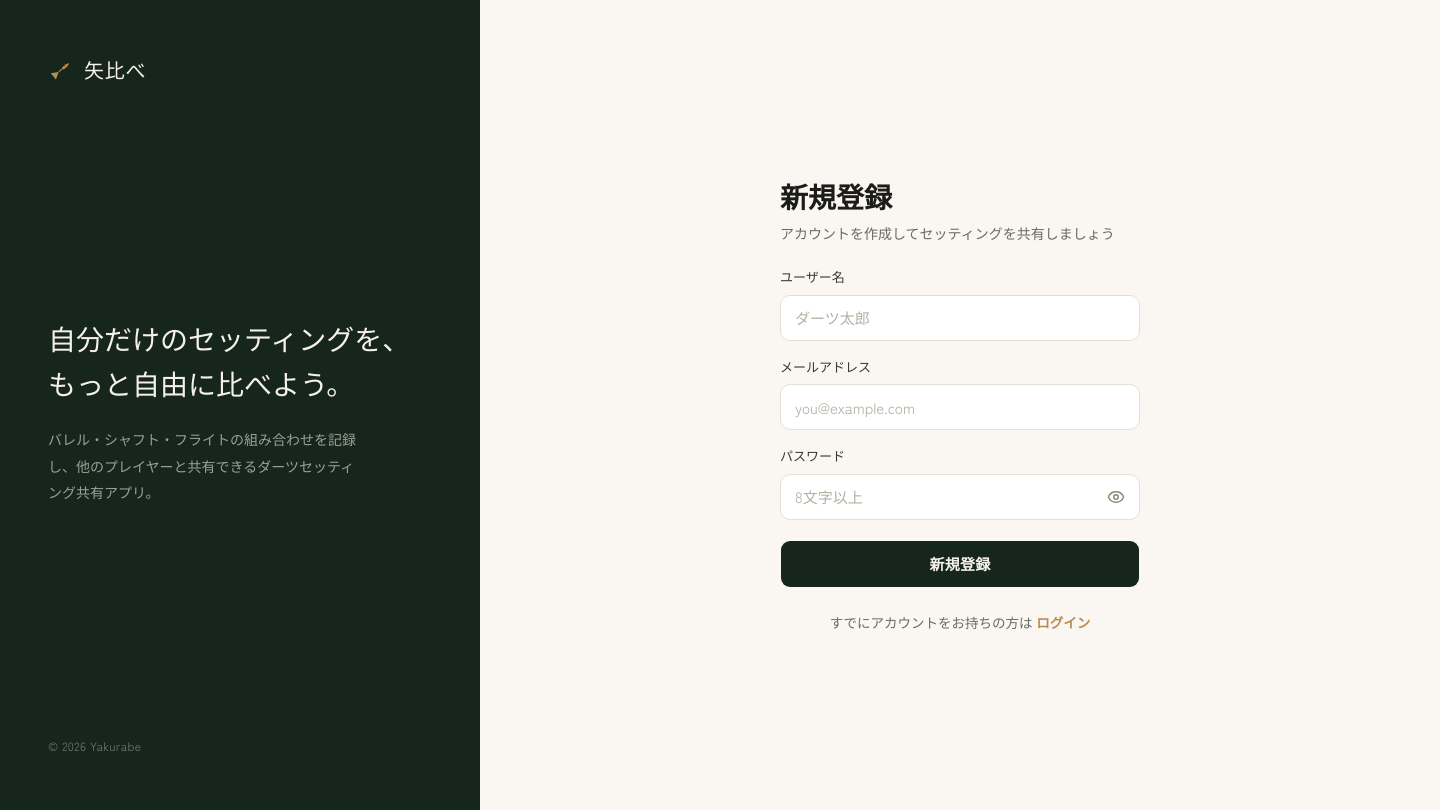
RegisterPage › 空欄で送信するとバリデーションエラーが表示され、fetchは呼ばれない
Click the button "新規登録" at (960, 564), box [780,540,1140,588]
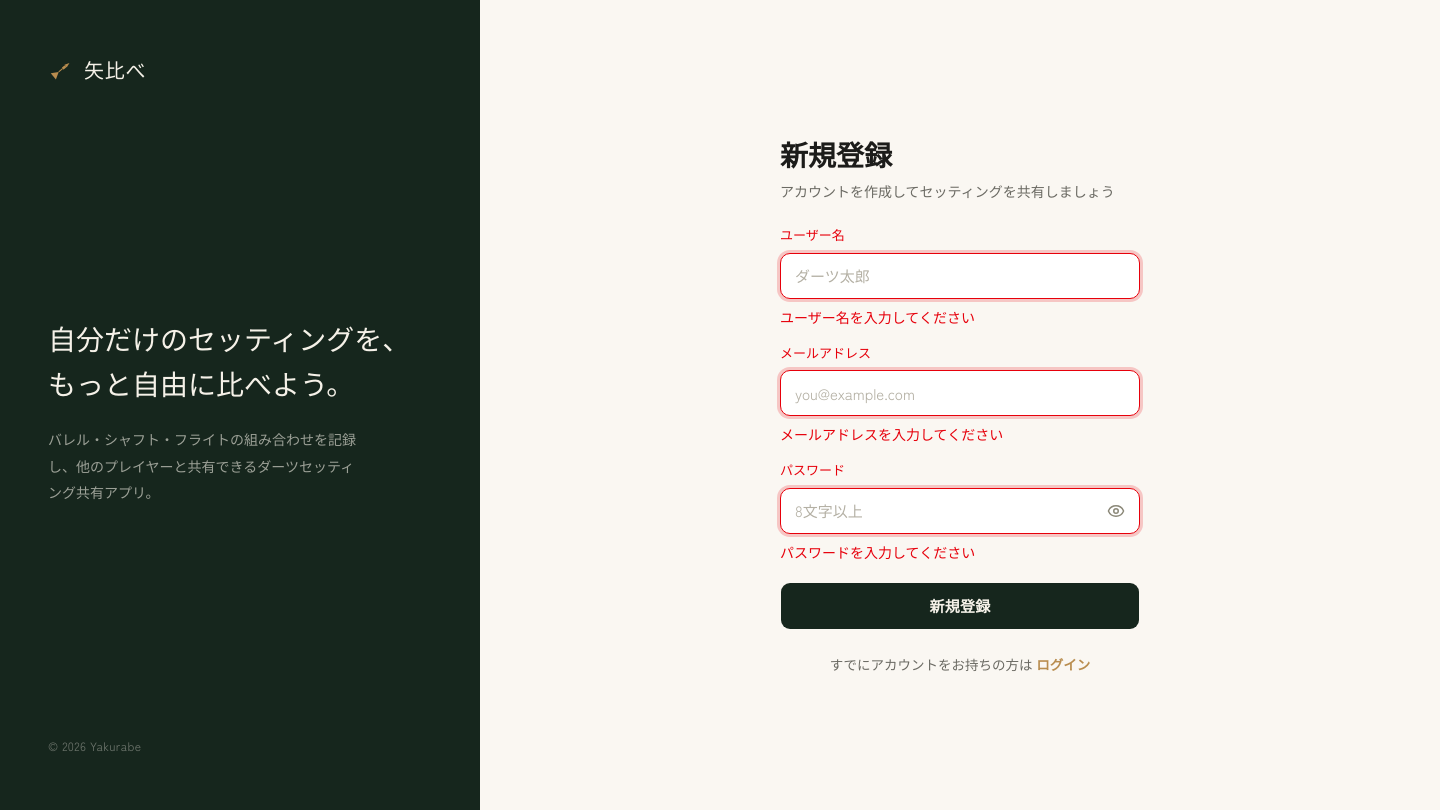
Result: the text "ユーザー名を入力してください" is shown at [780,307,975,327]
Result: the text "メールアドレスを入力してください" is shown at [780,424,1003,444]
Result: the text "パスワードを入力してください" is shown at [780,542,975,562]
